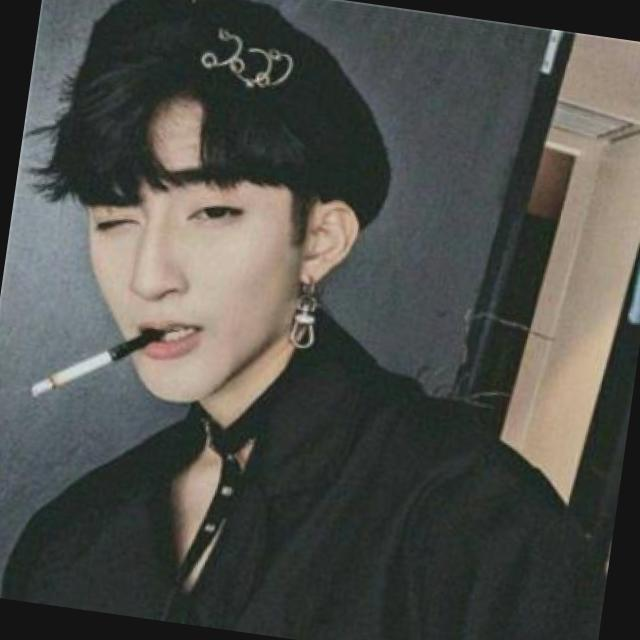cigarette: (28, 340, 110, 406)
